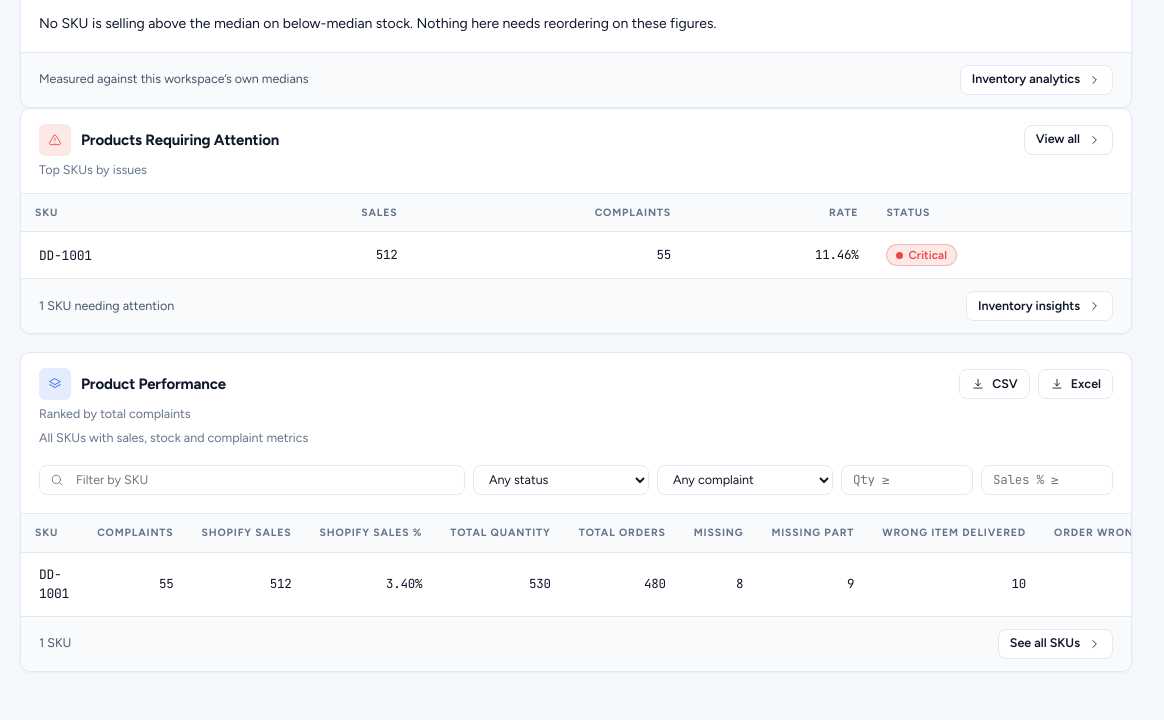
the SKU table is the top 50 › counts matches rather than the top 50 while searching
(page scrolled)
Type "DD-1001" into the field labelled "Filter by SKU" at (252, 480), box [39,465,465,495]
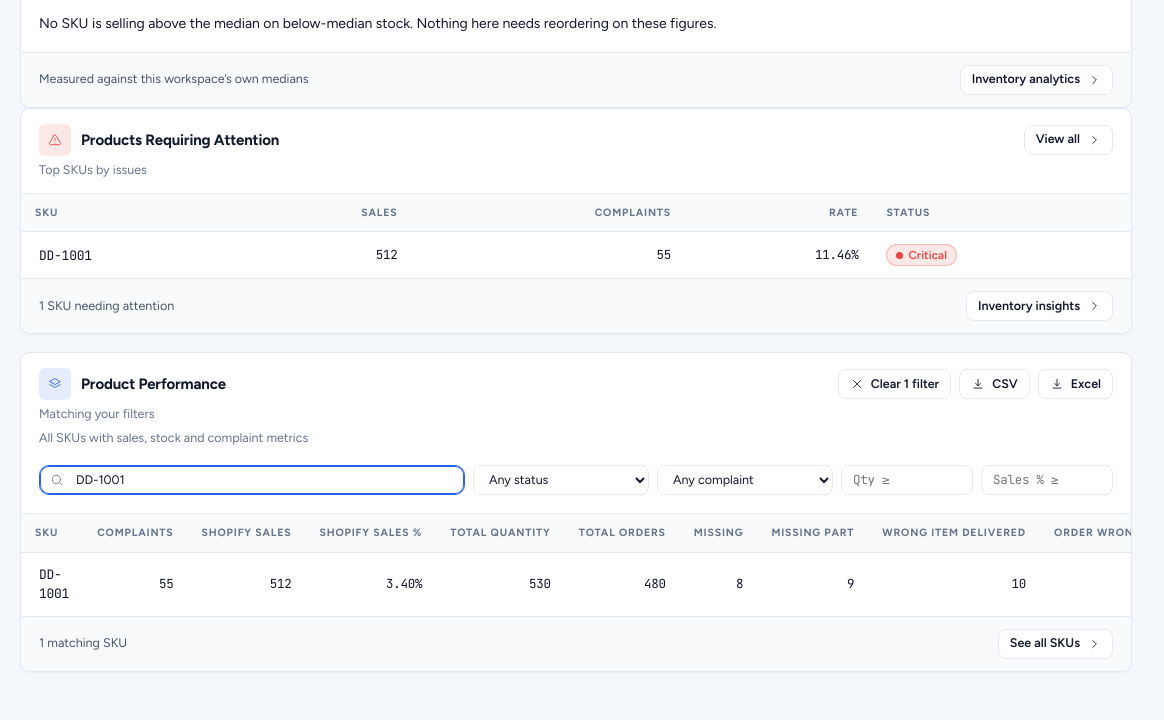
Check: the text "1 matching SKU" is shown, box [39,634,127,653]
Check: the text "Matching your filters" is shown, box [39,406,154,421]
